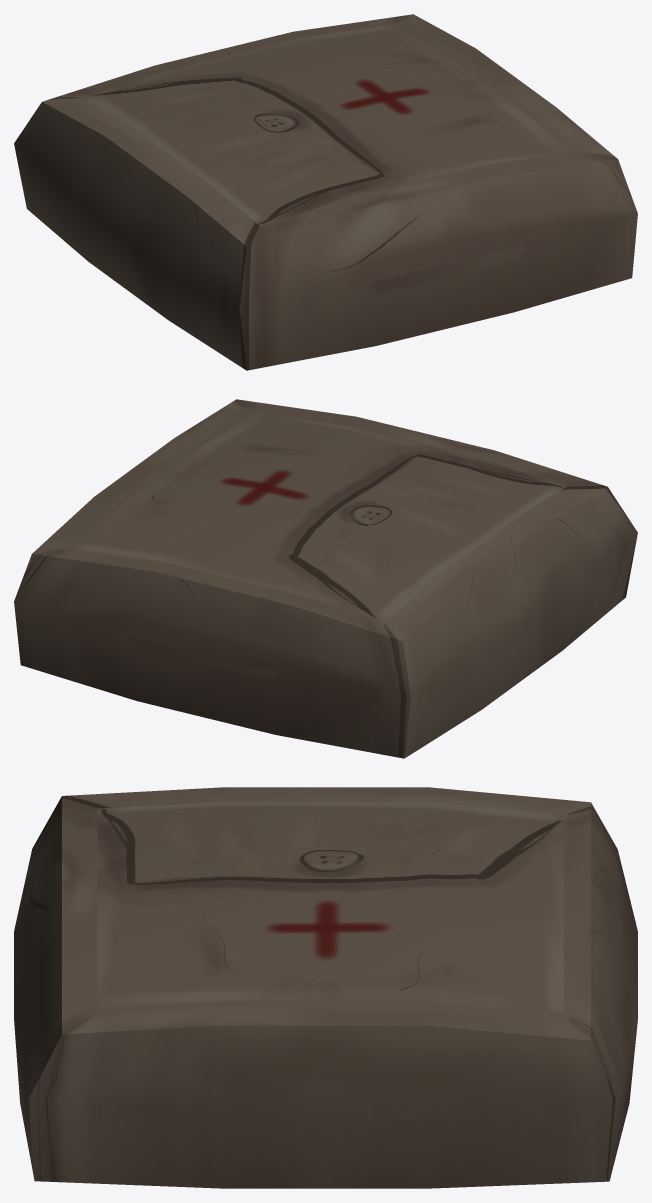
Rendered from healthPack.fbx.
3 renders of one model, top to bottom at view 1: azimuth 30°, elevation 25°; view 2: azimuth 150°, elevation 25°; view 3: azimuth 270°, elevation 25°, orthographic. The views are drawn at different scales.
Parts seen in each view (by area): view 1: Box019; view 2: Box019; view 3: Box019.
Part boxes in pixels (<box>): Box019: <box>14,14,637,370</box>; Box019: <box>14,399,637,758</box>; Box019: <box>14,787,637,1188</box>.
Bounding box in the file's own units: 20 × 20.12 × 6.
Materials: 1 (1 with a texture image).
